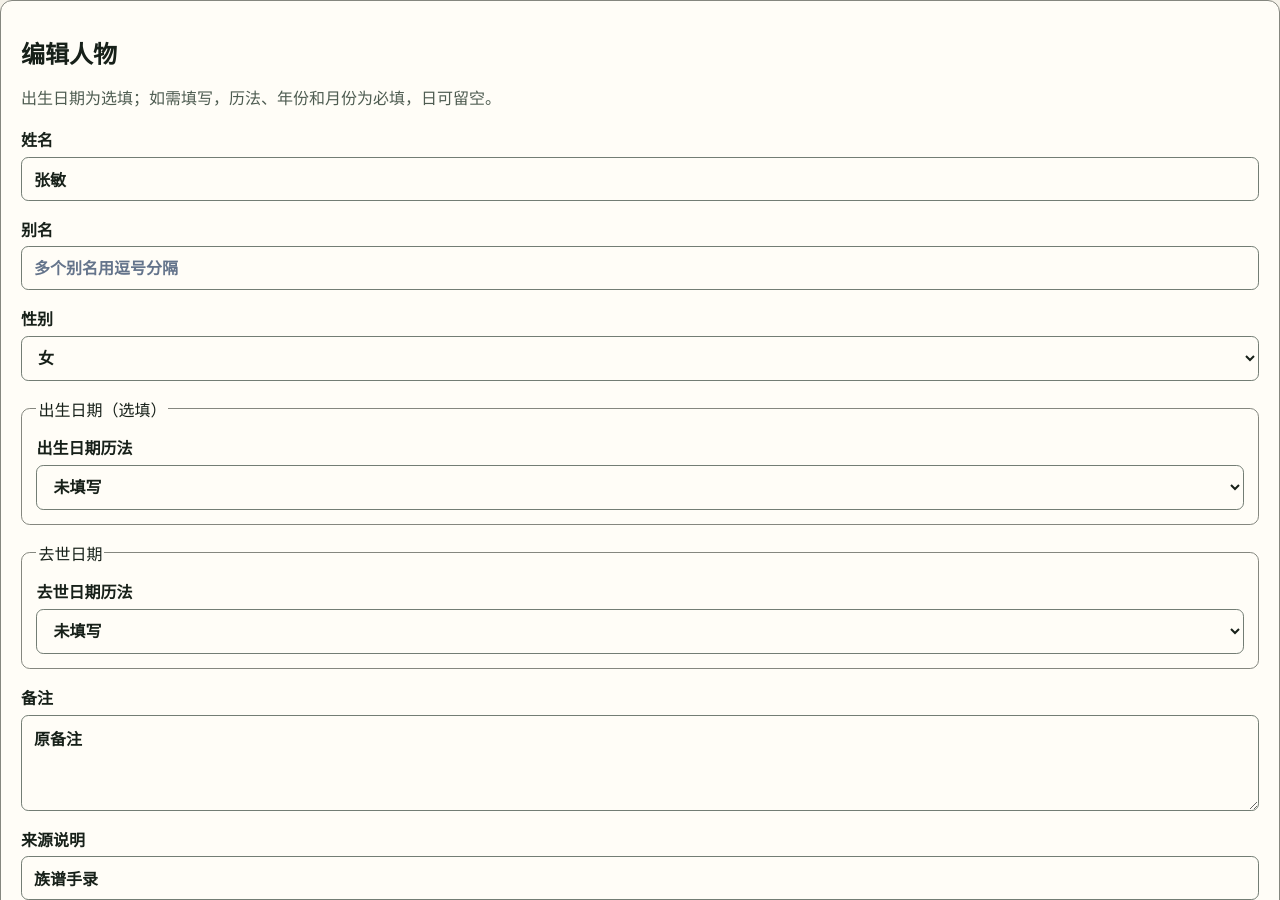
Scenario: PersonEditor › keeps unsaved values and displays a conflict banner after a stale update
The image size is (1280, 900).
Replace the text in the text box labelled "备注" with "尚未保存的新备注". click: (640, 763)
box: [21, 715, 1259, 811]
(page scrolled)
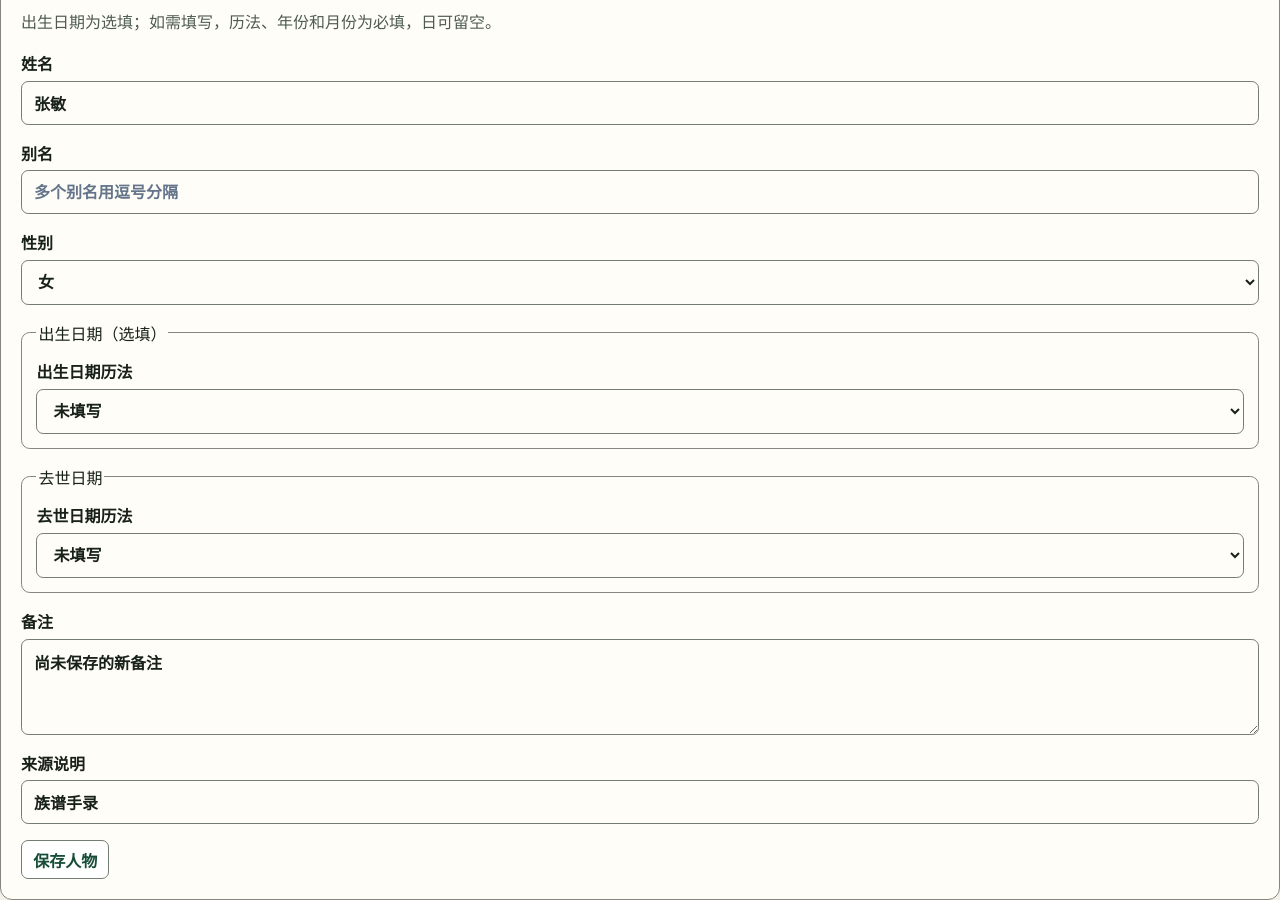
Click the button "保存人物". click: (65, 860)
box: [21, 840, 109, 879]
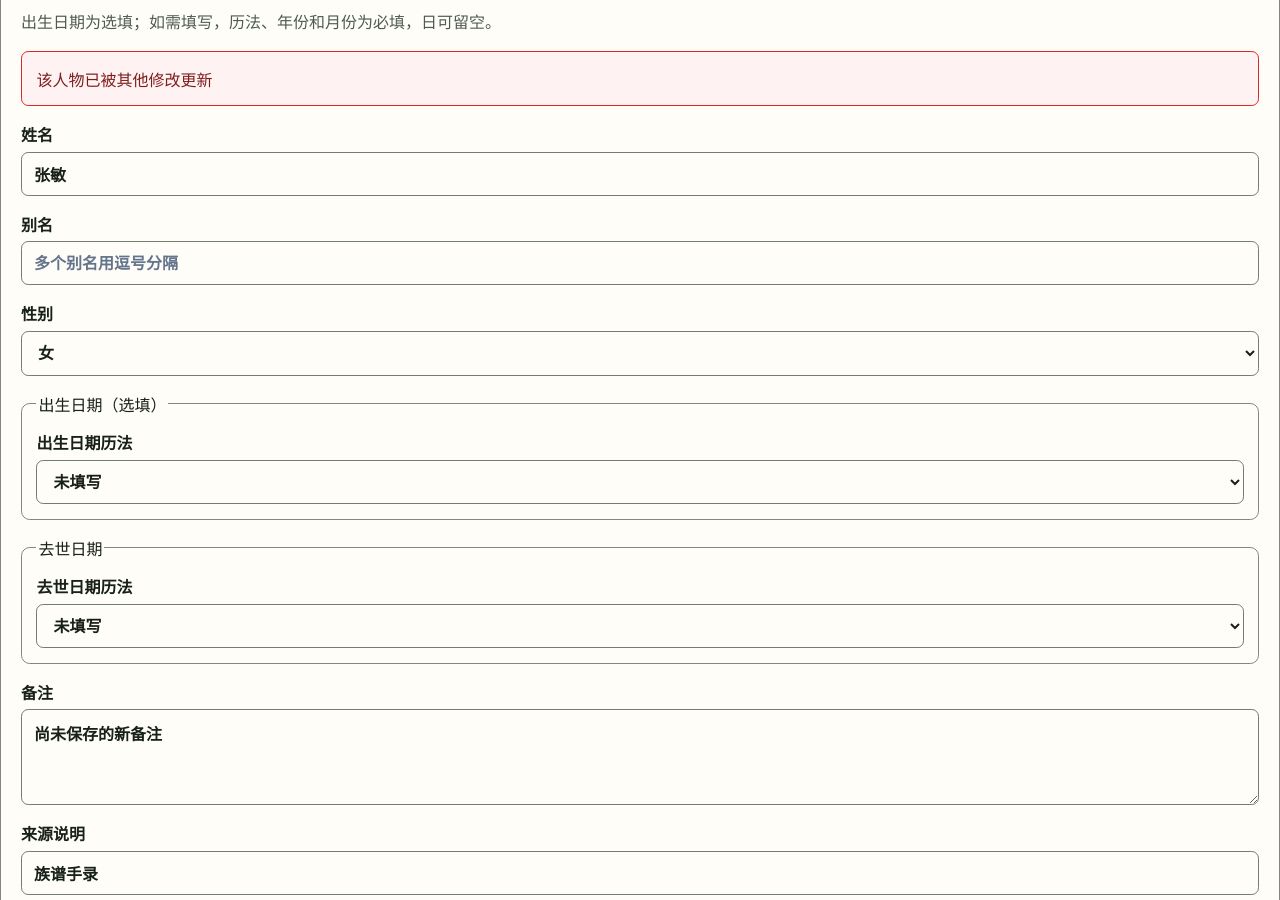
expect the message reads "该人物已被其他修改更新": met, box [36, 70, 212, 90]
